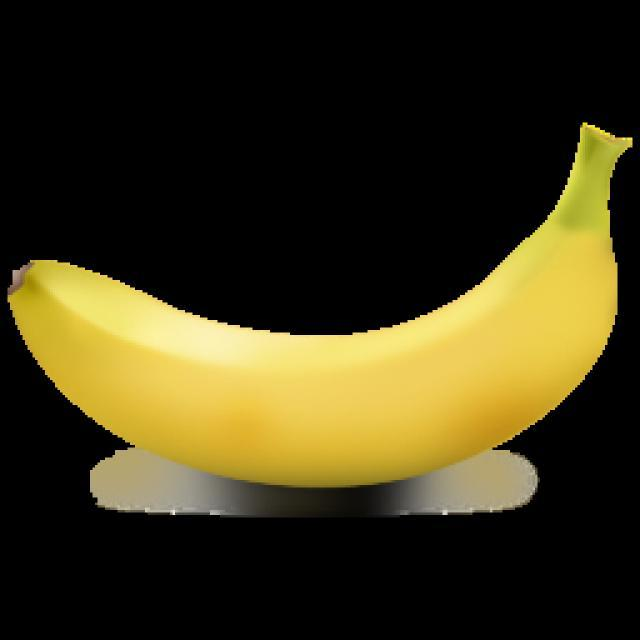Banana: (8, 129, 626, 492)
